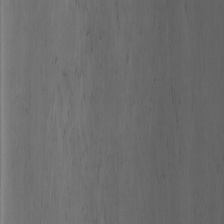silk_spot: (55, 21, 135, 213)
